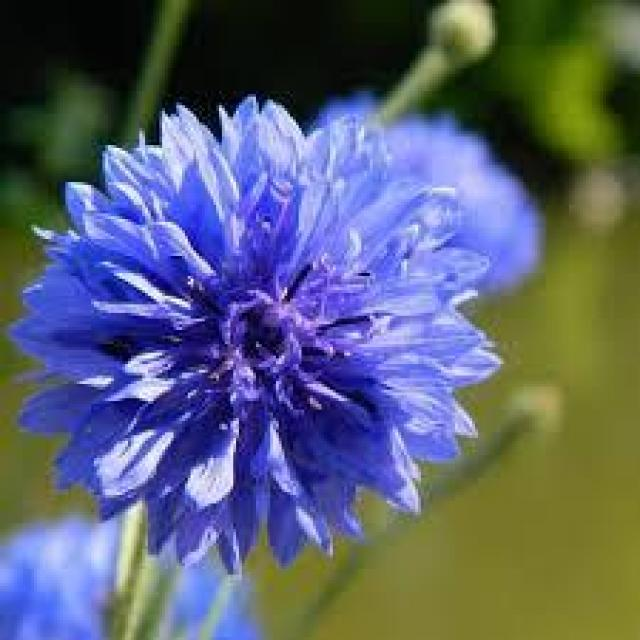organic waste: (30, 113, 499, 554)
